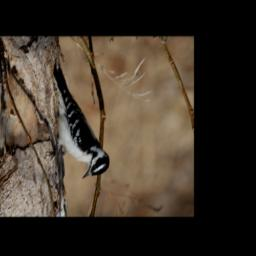Woodpecker: (45, 61, 110, 179)
